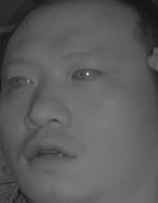eye: (71, 63, 104, 84), (5, 70, 37, 91)
mouth: (22, 134, 81, 171)
